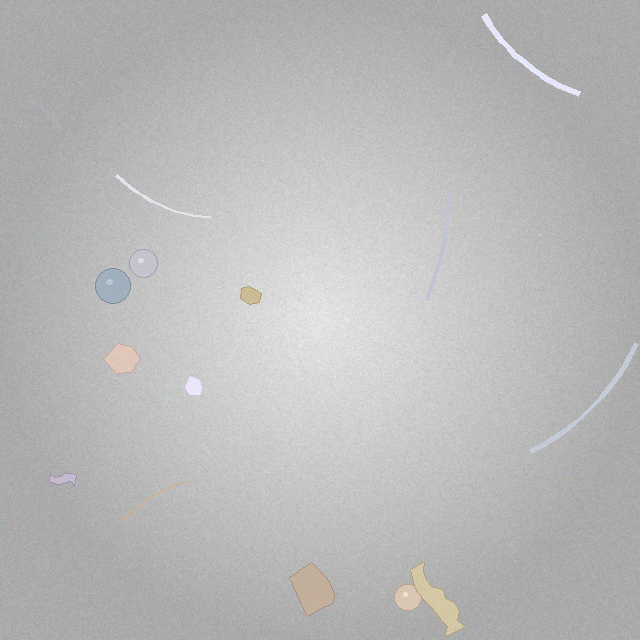fiber: (525, 339, 639, 456), (477, 9, 586, 100), (113, 172, 214, 222), (422, 187, 453, 305), (120, 480, 192, 523), (23, 98, 63, 130)
film: (410, 561, 465, 638), (49, 472, 76, 487)
fragment: (290, 563, 334, 617), (103, 343, 140, 373), (241, 286, 262, 304), (185, 376, 203, 396)
pellet: (96, 268, 131, 303), (130, 250, 158, 277), (395, 584, 421, 611)
